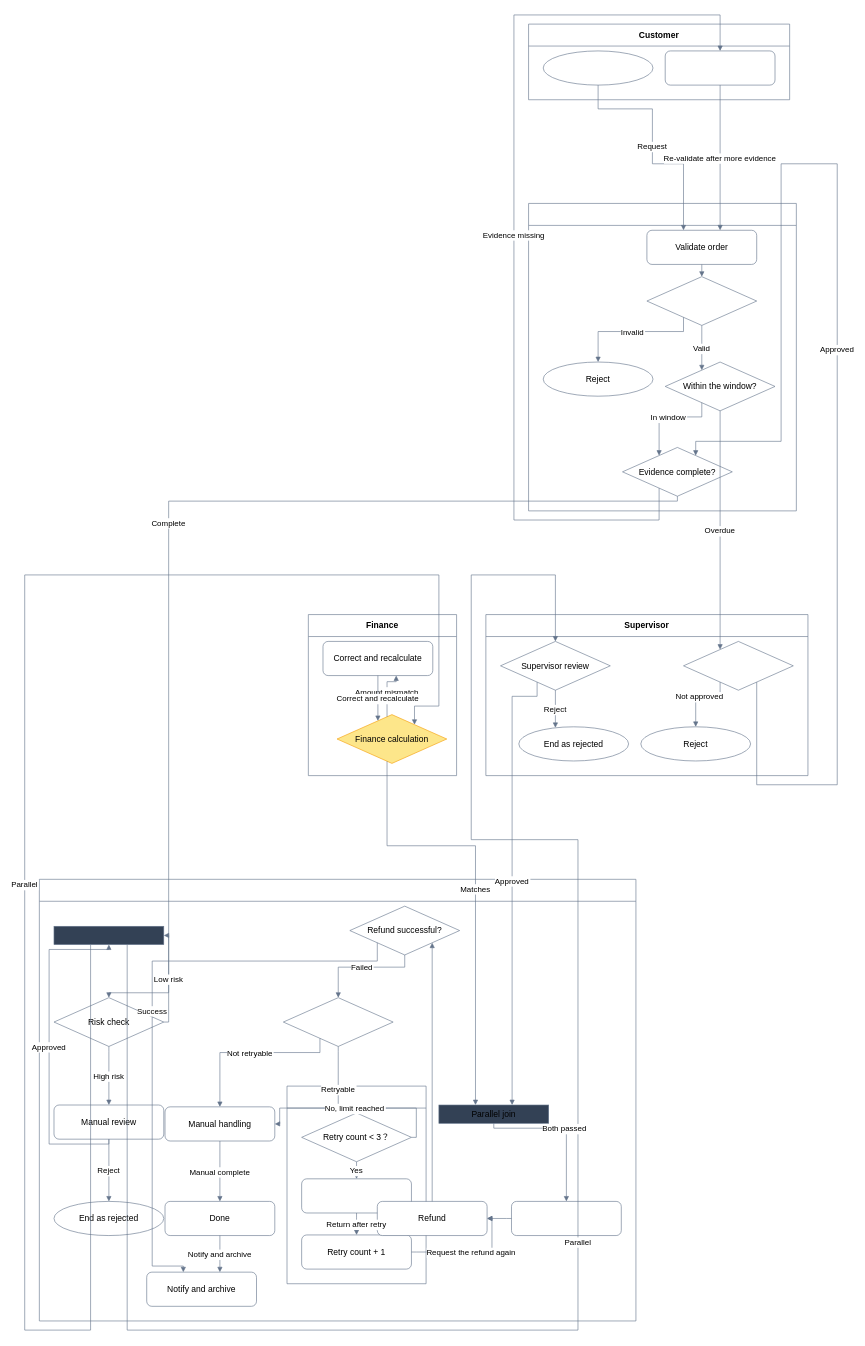
Image size: 865x1346. Some labels were removed from this diagram. The box of each missing label's shape, as (x1, y1, x2, y2) in pixels:
Exception review: (683, 641, 793, 690)
Order valid?: (646, 276, 757, 325)
Parallel start: (53, 926, 164, 945)
Payment: (39, 879, 636, 1321)
Request a refund: (543, 50, 653, 85)
Retry: (301, 1178, 411, 1213)
Retry count = 0: (511, 1201, 621, 1236)
Retry subprocess: (286, 1085, 426, 1284)
Retryable?: (283, 997, 393, 1046)
Submit more evidence: (665, 50, 775, 85)
Support: (528, 203, 796, 511)
